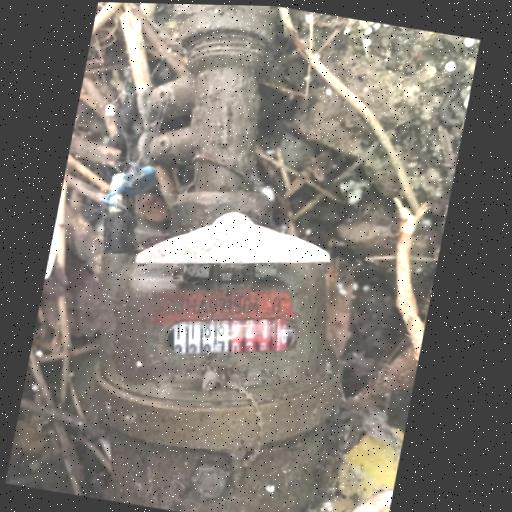1: (180, 317, 208, 357), (168, 318, 194, 356)
2: (238, 317, 264, 356)
6: (266, 314, 295, 356), (209, 317, 236, 357)
7: (250, 316, 279, 356)
8: (195, 318, 223, 357)
9: (223, 315, 251, 357)
border_water_meter_number: (159, 297, 304, 375)
